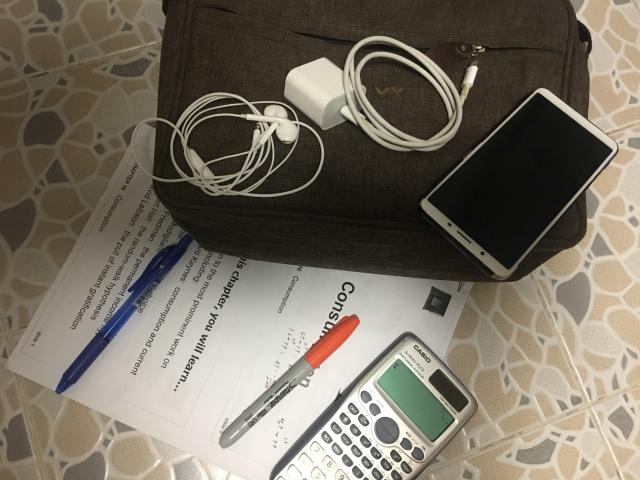Mobile phone: (421, 89, 618, 280)
Pen: (55, 235, 192, 394), (219, 315, 360, 449)
paper: (8, 125, 471, 480)
wire: (284, 36, 478, 151), (131, 92, 325, 198)
